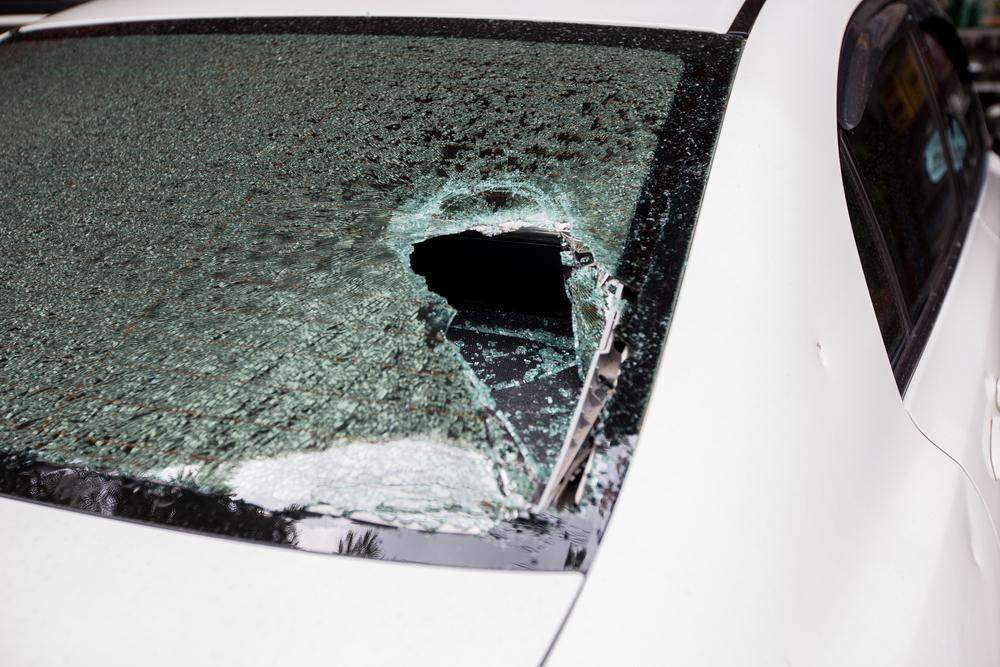glass shatter: (0, 18, 745, 574)
